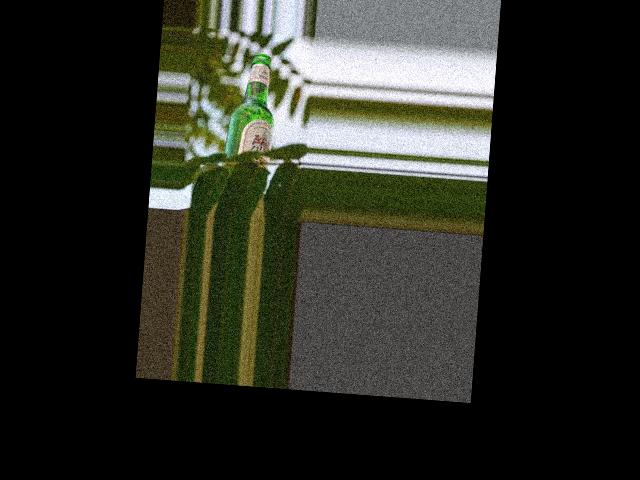beer: (225, 52, 278, 172)
